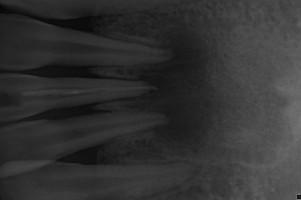Furcation Involvement: (124, 27, 214, 147)
